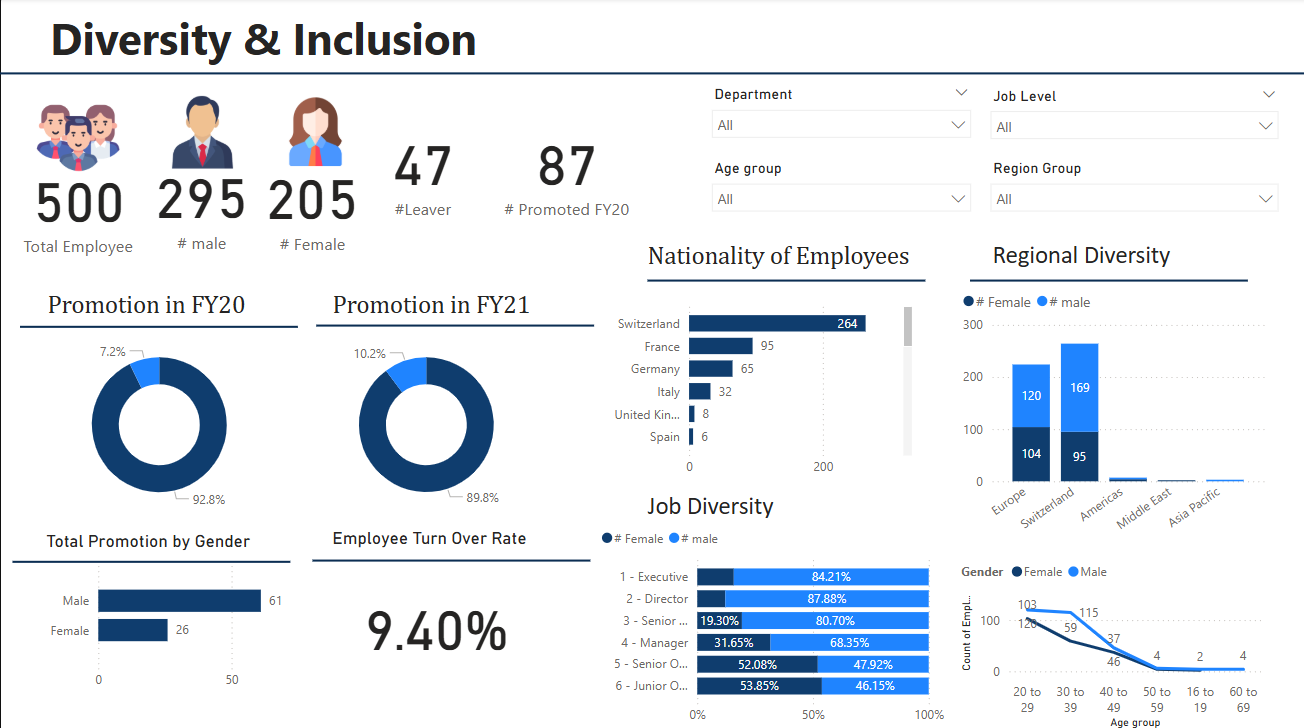

Layout of this report page (visuals, bound fields, positions):
{"tool":"powerbi","page":{"name":"Page 3","canvas":[1280,720],"ordinal":2},"visuals":[{"type":"image","box":[21.8,90,109.1,92.7],"z":0},{"type":"card","fields":{"Values":["Pharma.# Female"]},"box":[252.7,149.1,105.5,104.5],"z":1000},{"type":"card","fields":{"Values":["CountNonNull(Pharma Group AG.Employee ID)"]},"box":[11.8,151.8,129.1,105.5],"z":2000},{"type":"card","fields":{"Values":["Pharma.# male"]},"box":[147.3,148.2,101.8,105.5],"z":3000},{"type":"card","fields":{"Values":["Pharma.#Leaver"]},"box":[374.2,113.7,79.5,107.6],"z":4000},{"type":"card","fields":{"Values":["Pharma.# Promoted FY20"]},"box":[486.7,116.2,135.7,102.7],"z":5000},{"type":"textbox","box":[41.2,280.1,229.4,50.7],"z":6000},{"type":"image","box":[156.4,90,82.7,81.8],"z":7000},{"type":"image","box":[270,87.3,77.3,87.3],"z":8000},{"type":"donutChart","fields":{"Category":["Pharma.Promotion in FY20?"],"Y":["CountNonNull(Pharma.Promotion in FY20?)"]},"box":[30,320.9,250.9,194.5],"z":11000},{"type":"textbox","box":[320,280,235.5,50.9],"z":12000},{"type":"donutChart","fields":{"Category":["Pharma.Promotion in FY21?"],"Y":["CountNonNull(Pharma.Promotion in FY21?)"]},"box":[291.8,320.9,250,194.5],"z":13000},{"type":"textbox","box":[534.8,280.1,235.7,50.7],"z":14000},{"type":"textbox","box":[724,280.1,235.7,50.7],"z":15000},{"type":"textbox","box":[628.2,231.8,282.7,50.9],"z":16000},{"type":"textbox","box":[261.8,535.5,224.5,46.4],"z":17000},{"type":"textbox","box":[44,4.9,497.7,69.7],"z":18000},{"type":"shape","box":[0,66.4,1280,15.5],"z":20000},{"type":"slicer","fields":{"Values":["Pharma.Last Department in FY20"]},"box":[685.5,80.9,273.6,64.5],"z":21000},{"type":"slicer","fields":{"Values":["Pharma.Job Level after FY20 promotions"]},"box":[959.1,81.8,301.8,78.2],"z":22000},{"type":"slicer","fields":{"Values":["Pharma.Age group"]},"box":[685.5,152.7,273.6,79.1],"z":23000},{"type":"slicer","fields":{"Values":["Pharma.Broad region group: nationality 1"]},"box":[959.1,152.7,301.8,78.2],"z":24000},{"type":"clusteredBarChart","title":"Total Promotion by Gender","fields":{"Category":["Pharma.Gender"],"Y":["Pharma.# Promoted FY20"]},"box":[40.9,520.9,250.9,164.5],"z":25000},{"type":"card","title":"Employee Turn Over Rate","fields":{"Values":["Pharma.#Employee Turnover"]},"box":[320,518.2,213.6,167.3],"z":26000},{"type":"clusteredBarChart","fields":{"Category":["Pharma.Nationality 1"],"Y":["CountNonNull(Pharma.Nationality 1)"]},"box":[582.7,289.1,313.6,188.2],"z":27000},{"type":"textbox","box":[628.2,477.3,144.5,45.5],"z":28000},{"type":"hundredPercentStackedBarChart","fields":{"Category":["Pharma.Job Level after FY21 promotions"],"Y":["Pharma.# Female","Pharma.# male"]},"box":[582.7,509.1,345.5,210.9],"z":29000},{"type":"textbox","box":[966.4,230.9,238.2,45.5],"z":30000},{"type":"columnChart","fields":{"Category":["Pharma.Region group: nationality 1"],"Y":["Pharma.# Female","Pharma.# male"]},"box":[936.4,276.4,305.5,266.4],"z":31000},{"type":"shape","box":[20,313.6,271.8,17.3],"z":32000},{"type":"shape","box":[309.1,311.8,271.8,17.3],"z":33000},{"type":"shape","box":[11.8,542.7,271.8,17.3],"z":34000},{"type":"shape","box":[305.5,541.8,271.8,17.3],"z":35000},{"type":"shape","box":[633.6,267.3,271.8,17.3],"z":36000},{"type":"shape","box":[949.1,267.3,271.8,17.3],"z":37000},{"type":"lineChart","fields":{"Category":["Pharma.Age group"],"Y":["CountNonNull(Pharma.Employee ID)"],"Series":["Pharma.Gender"]},"box":[936,542,305,178],"z":38000}]}

Visuals, with their boxes in screenshot pixels (x1, y1, x2, y2), scaled from the page's 1280x720 canvas onto the 1304x728 screenshot:
image: BBox(22, 91, 133, 185)
card - Pharma.# Female: BBox(257, 151, 365, 256)
card - CountNonNull(Pharma Group AG.Employee ID): BBox(12, 153, 144, 260)
card - Pharma.# male: BBox(150, 150, 254, 257)
card - Pharma.#Leaver: BBox(381, 115, 462, 224)
card - Pharma.# Promoted FY20: BBox(496, 117, 634, 221)
textbox: BBox(42, 283, 276, 334)
image: BBox(159, 91, 244, 174)
image: BBox(275, 88, 354, 177)
donutChart - Pharma.Promotion in FY20? x CountNonNull(Pharma.Promotion in FY20?): BBox(31, 324, 286, 521)
textbox: BBox(326, 283, 566, 335)
donutChart - Pharma.Promotion in FY21? x CountNonNull(Pharma.Promotion in FY21?): BBox(297, 324, 552, 521)
textbox: BBox(545, 283, 785, 334)
textbox: BBox(738, 283, 978, 334)
textbox: BBox(640, 234, 928, 286)
textbox: BBox(267, 541, 495, 588)
textbox: BBox(45, 5, 552, 75)
shape: BBox(0, 67, 1303, 83)
slicer - Pharma.Last Department in FY20: BBox(698, 82, 977, 147)
slicer - Pharma.Job Level after FY20 promotions: BBox(977, 83, 1285, 162)
slicer - Pharma.Age group: BBox(698, 154, 977, 234)
slicer - Pharma.Broad region group: nationality 1: BBox(977, 154, 1285, 233)
"Total Promotion by Gender" clusteredBarChart: BBox(42, 527, 297, 693)
"Employee Turn Over Rate" card: BBox(326, 524, 544, 693)
clusteredBarChart - Pharma.Nationality 1 x CountNonNull(Pharma.Nationality 1): BBox(594, 292, 913, 483)
textbox: BBox(640, 483, 787, 529)
hundredPercentStackedBarChart - Pharma.Job Level after FY21 promotions x Pharma.# Female: BBox(594, 515, 946, 727)
textbox: BBox(985, 233, 1227, 279)
columnChart - Pharma.Region group: nationality 1 x Pharma.# Female: BBox(954, 279, 1265, 549)
shape: BBox(20, 317, 297, 335)
shape: BBox(315, 315, 592, 333)
shape: BBox(12, 549, 289, 566)
shape: BBox(311, 548, 588, 565)
shape: BBox(645, 270, 922, 288)
shape: BBox(967, 270, 1244, 288)
lineChart - Pharma.Age group x CountNonNull(Pharma.Employee ID): BBox(954, 548, 1264, 727)
